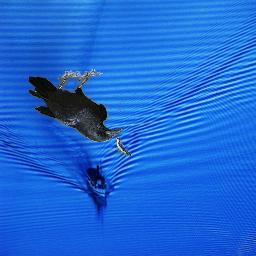Crow: (29, 70, 123, 143)
Swallow: (115, 138, 131, 157)
